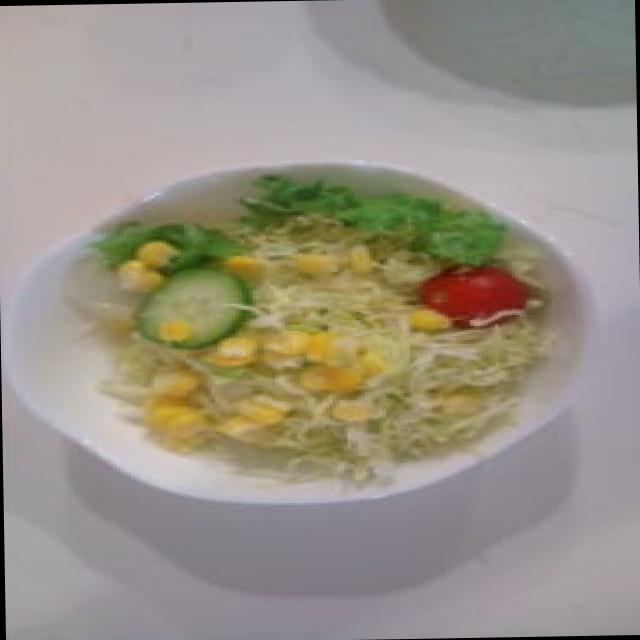Green Salad: (80, 190, 532, 463)
